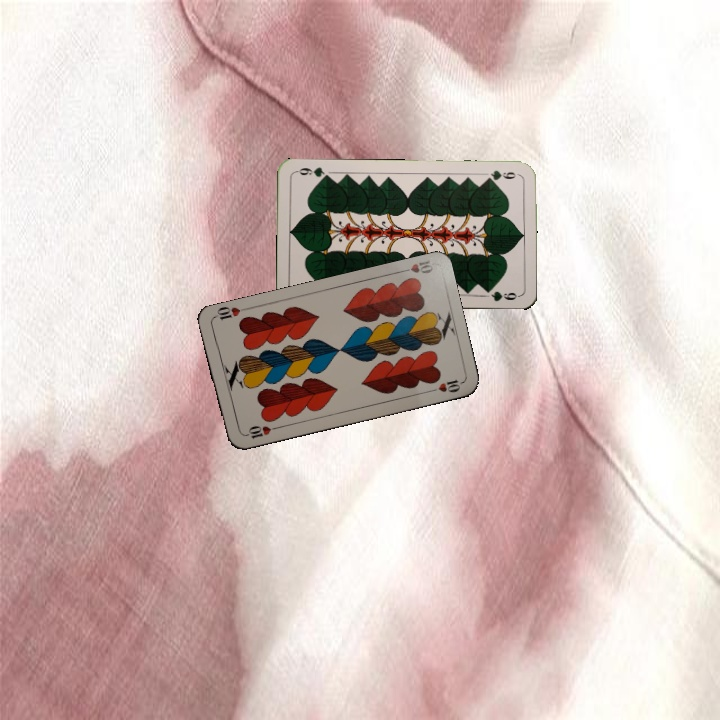G9: (482, 166, 521, 183)
H10: (395, 256, 436, 276), (240, 422, 281, 441)
